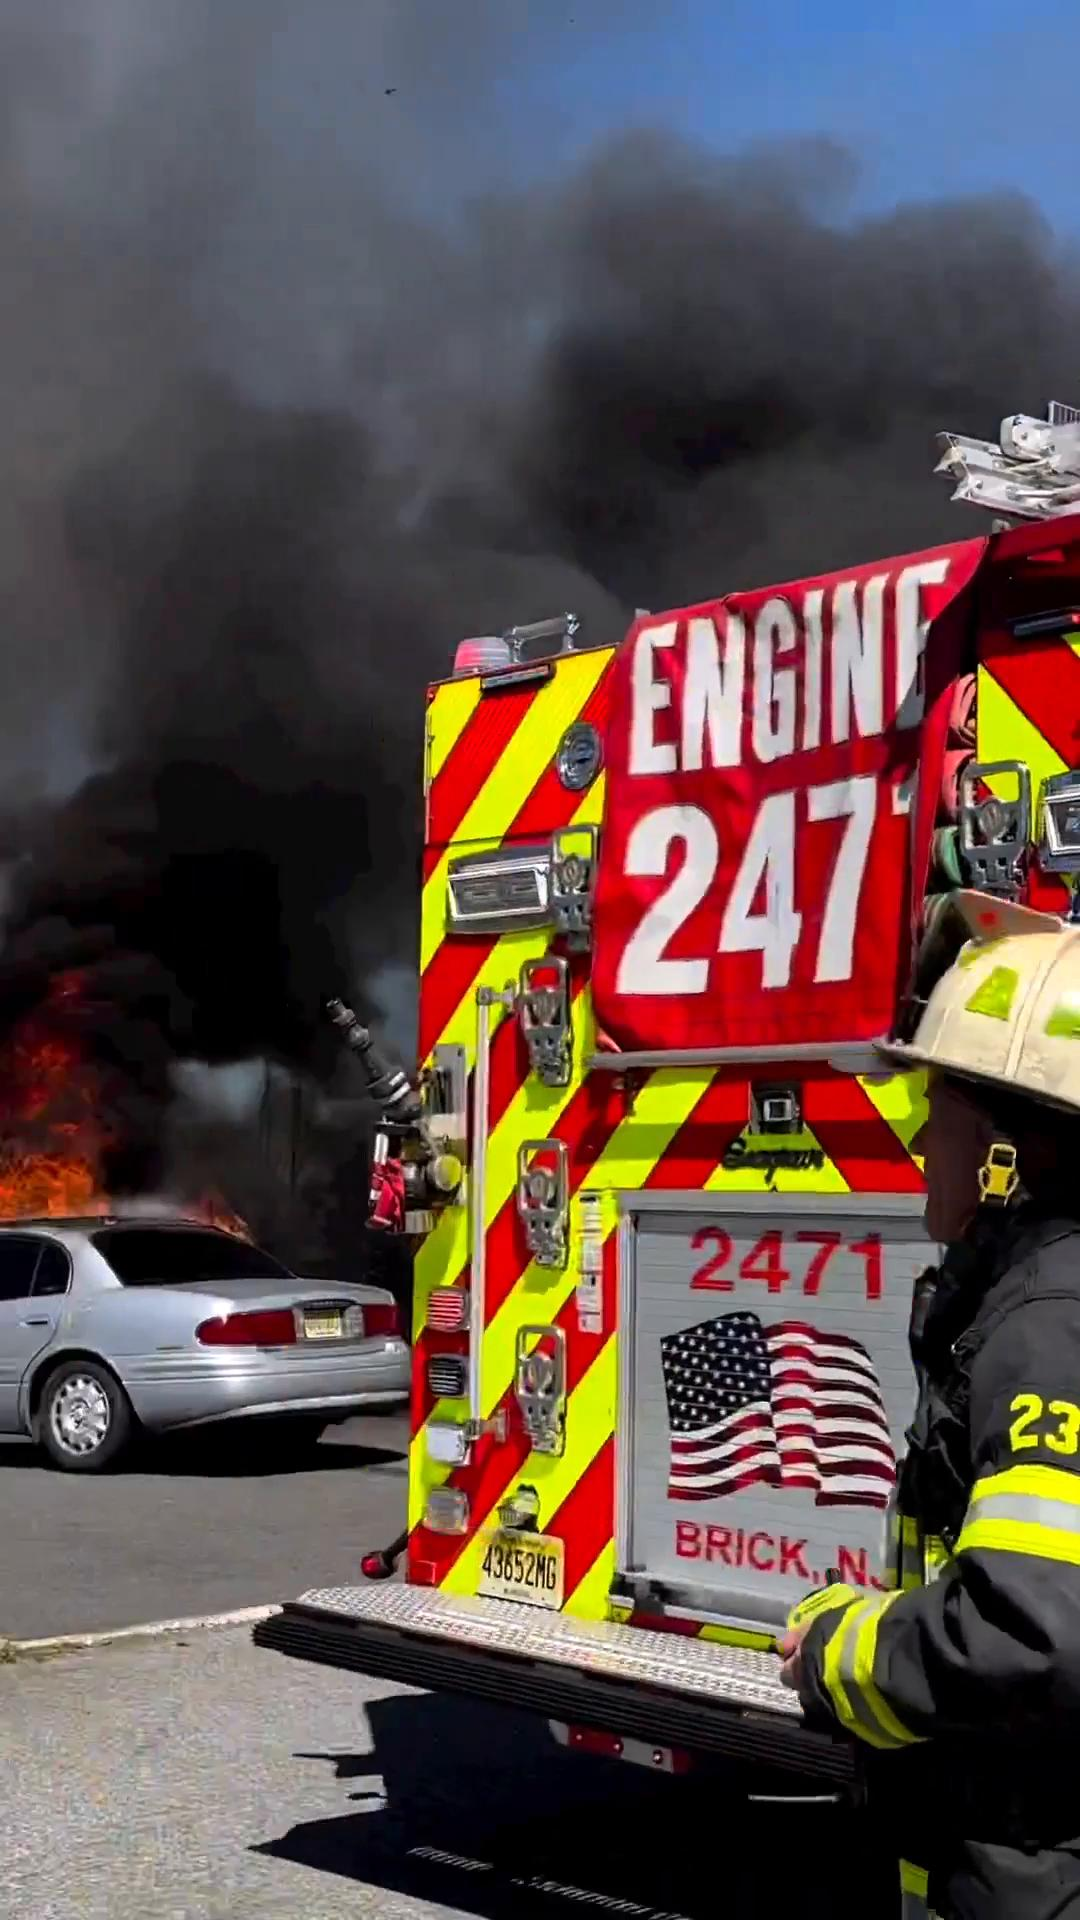smoke: (44, 220, 393, 984), (410, 233, 986, 524)
